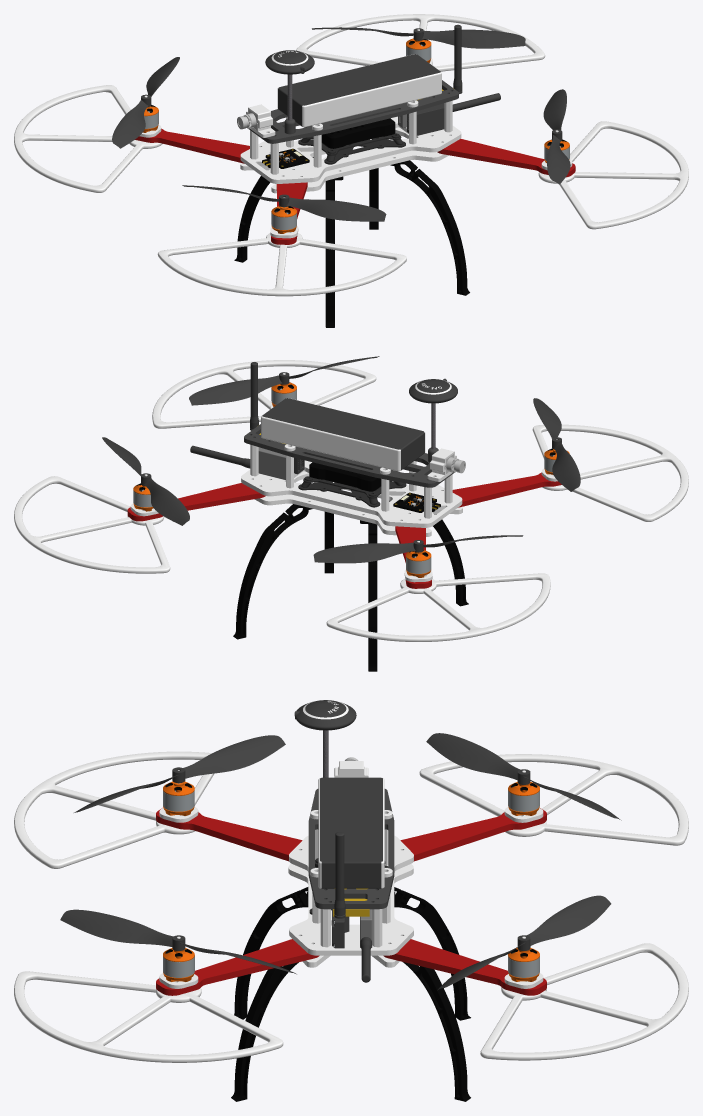
File: nabhyaan.glb
3 views of the same model, one above another, from view 1: azimuth 30°, elevation 25°; view 2: azimuth 150°, elevation 25°; view 3: azimuth 270°, elevation 25° (orthographic). The views are drawn at different scales.
Parts seen in each view (by area): view 1: object 43, object 6, object 1, prop guard-1 - Part, prop guard-4 - Part, prop guard-2 - Part, prop guard-3 - Part, Landing Gear Arm-1 - Part, Drone Arm PETG 80 QTY 4-3 - Part, Drone Arm PETG 80 QTY 4-2 - Part, Landing Gear Arm-3 - Part, Landing Gear Arm-2 - Part (+2 smaller); view 2: object 43, object 6, object 1, prop guard-2 - Part, prop guard-3 - Part, prop guard-1 - Part, prop guard-4 - Part, Landing Gear Arm-4 - Part, Drone Arm PETG 80 QTY 4-1 - Part, Drone Arm PETG 80 QTY 4-4 - Part, Landing Gear Arm-2 - Part, Landing Gear Arm-3 - Part (+1 smaller); view 3: object 43, object 6, prop guard-4 - Part, prop guard-3 - Part, object 1, prop guard-2 - Part, prop guard-1 - Part, Drone Arm PETG 80 QTY 4-3 - Part, Drone Arm PETG 80 QTY 4-4 - Part, Drone Arm PETG 80 QTY 4-1 - Part, Drone Arm PETG 80 QTY 4-2 - Part, Landing Gear Arm-4 - Part (+3 smaller).
Boxes of the visible parts, x1,y1,x2,y2 form: object 43: [249, 24, 500, 168]; object 6: [112, 27, 570, 221]; object 1: [240, 100, 461, 193]; prop guard-1 - Part: [157, 233, 406, 296]; prop guard-4 - Part: [538, 121, 688, 229]; prop guard-2 - Part: [14, 85, 162, 192]; prop guard-3 - Part: [296, 14, 545, 71]; Landing Gear Arm-1 - Part: [390, 160, 469, 295]; Drone Arm PETG 80 QTY 4-3 - Part: [437, 138, 575, 177]; Drone Arm PETG 80 QTY 4-2 - Part: [135, 128, 249, 163]; Landing Gear Arm-3 - Part: [325, 176, 343, 327]; Landing Gear Arm-2 - Part: [234, 157, 313, 262]; object 43: [190, 362, 457, 512]; object 6: [102, 356, 580, 563]; object 1: [241, 444, 462, 536]; prop guard-2 - Part: [326, 573, 550, 641]; prop guard-3 - Part: [14, 476, 170, 573]; prop guard-1 - Part: [532, 424, 688, 521]; prop guard-4 - Part: [152, 360, 376, 428]; Landing Gear Arm-4 - Part: [233, 504, 312, 639]; Drone Arm PETG 80 QTY 4-1 - Part: [452, 472, 561, 507]; Drone Arm PETG 80 QTY 4-4 - Part: [127, 483, 265, 521]; Landing Gear Arm-2 - Part: [360, 520, 377, 671]; Landing Gear Arm-3 - Part: [389, 500, 468, 606]; object 43: [294, 700, 394, 982]; object 6: [60, 733, 621, 990]; prop guard-4 - Part: [14, 971, 283, 1062]; prop guard-3 - Part: [480, 943, 688, 1060]; object 1: [288, 761, 413, 967]; prop guard-2 - Part: [419, 754, 688, 845]; prop guard-1 - Part: [14, 751, 213, 868]; Drone Arm PETG 80 QTY 4-3 - Part: [156, 939, 319, 995]; Drone Arm PETG 80 QTY 4-4 - Part: [383, 939, 546, 995]; Drone Arm PETG 80 QTY 4-1 - Part: [156, 808, 302, 861]; Drone Arm PETG 80 QTY 4-2 - Part: [400, 808, 546, 861]; Landing Gear Arm-4 - Part: [403, 962, 470, 1101].
Size of the model in its own units: 0.6313 by 0.2968 by 0.5896.
Materials: 31 (1 with a texture image).
